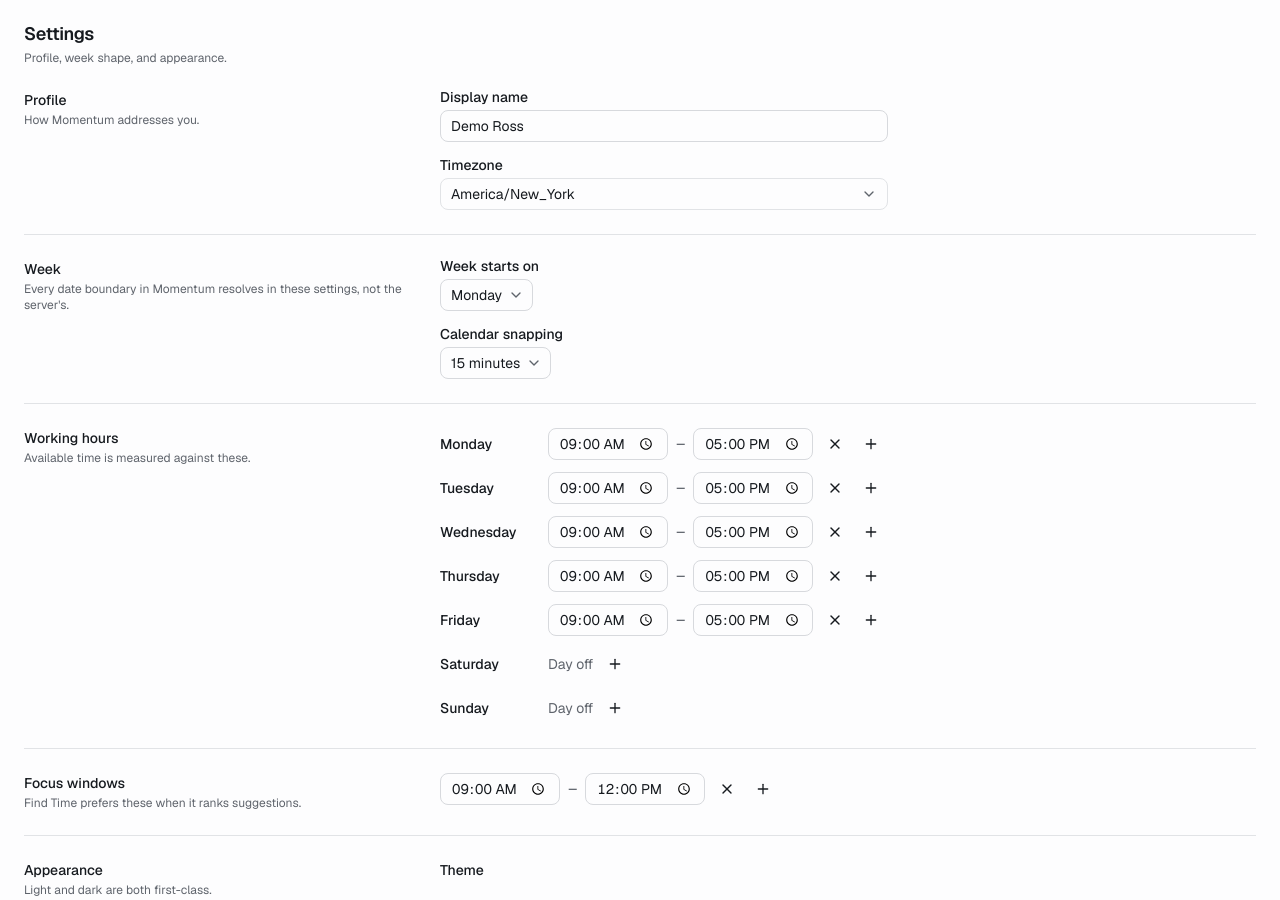
Test case: timezone › lists far more than a handful of zones
Click the dropdown named "Timezone" at x=513, y=194, box [440,178,888,210]
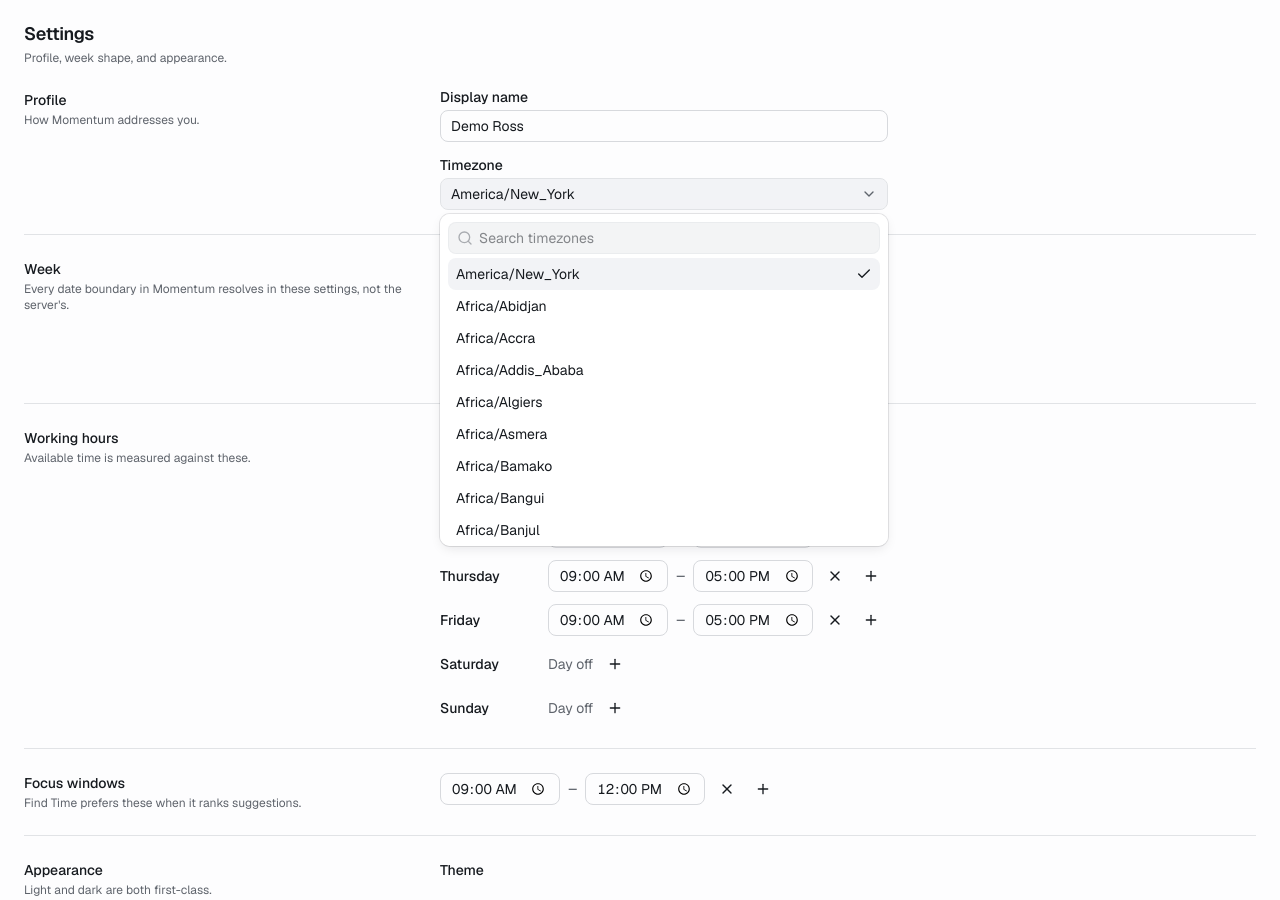
expect the option "America/New_York" is shown: met, box [448,258,880,290]
